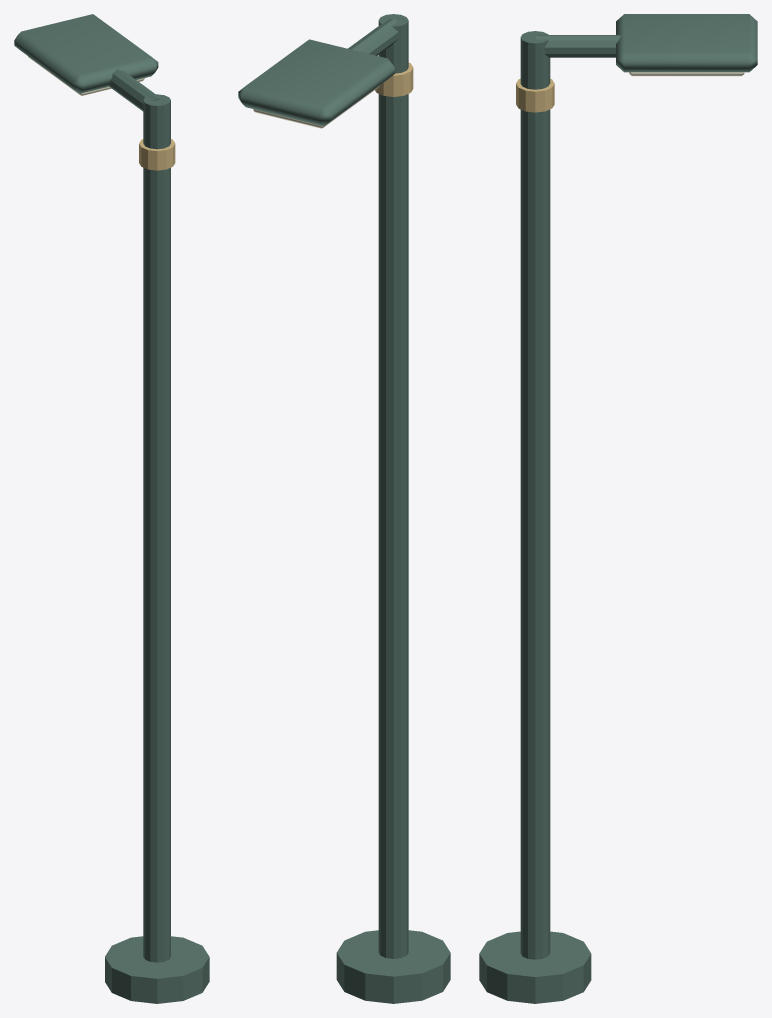
File: lamp.glb
3 renders of one model, left to right at view 1: azimuth 30°, elevation 25°; view 2: azimuth 150°, elevation 25°; view 3: azimuth 270°, elevation 25°, orthographic. The views are drawn at different scales.
Visible parts, largest first — view 1: pole, shade, foot, arm, brass.collar; view 2: pole, shade, foot, arm, brass.collar; view 3: pole, shade, foot, arm, brass.collar.
Boxes of the visible parts, left/top/right/bottom form: pole: left=143, top=94, right=170, bottom=962; shade: left=14, top=14, right=158, bottom=93; foot: left=105, top=936, right=209, bottom=1003; arm: left=109, top=69, right=160, bottom=111; brass.collar: left=139, top=139, right=175, bottom=170; pole: left=378, top=14, right=408, bottom=958; shade: left=238, top=39, right=394, bottom=126; foot: left=336, top=930, right=450, bottom=1003; arm: left=348, top=19, right=398, bottom=55; brass.collar: left=375, top=62, right=413, bottom=96; pole: left=520, top=31, right=550, bottom=959; shade: left=616, top=14, right=757, bottom=72; foot: left=479, top=931, right=591, bottom=1003; arm: left=535, top=35, right=620, bottom=57; brass.collar: left=516, top=78, right=554, bottom=112.
Size of the model in its own units: 0.34 by 3.18 by 0.845.
